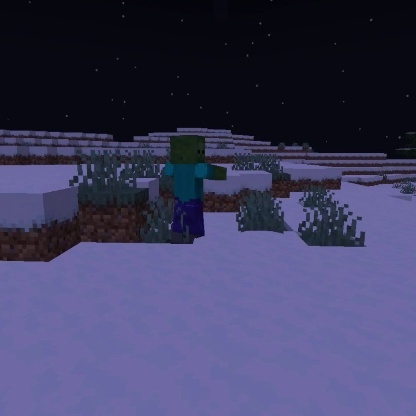zombie: (159, 132, 231, 242)
